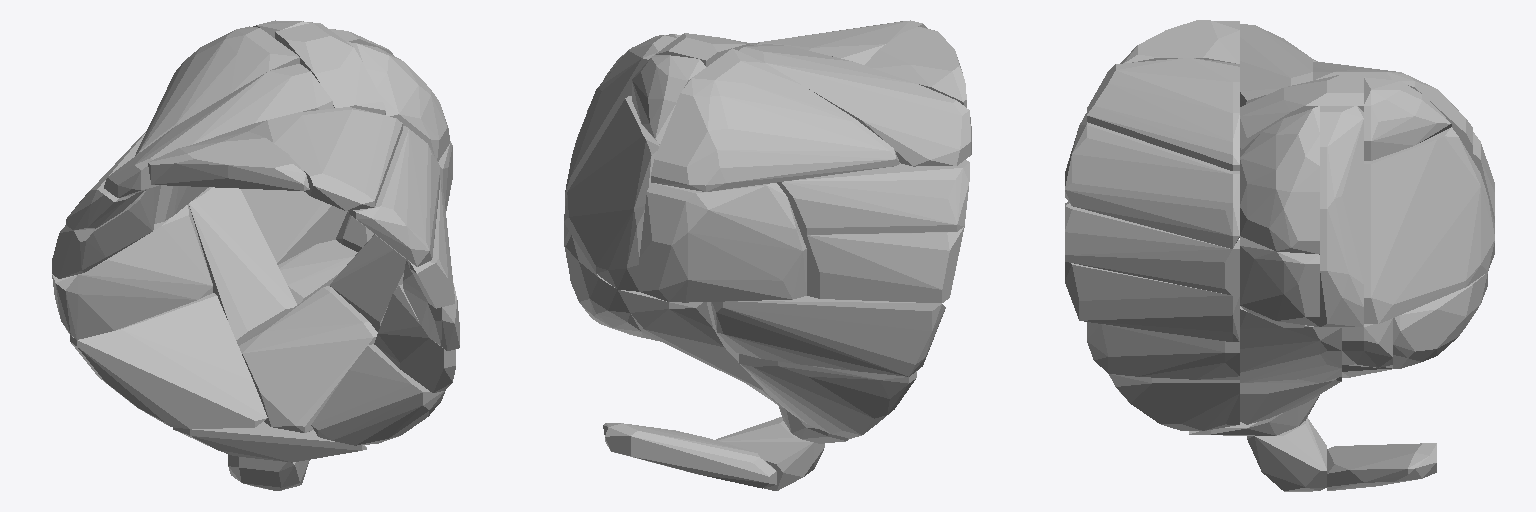
URDF robot description (root):
<robot name="root"><link name="link_GreenCup_800_tex_0000"><inertial><origin rpy="0 0 0" xyz="0 0 0" /><mass value="1.41E-03" /><inertia ixx="7.35E-07" ixy="-1.10E-07" ixz="1.91E-07" iyy="6.61E-07" iyz="2.82E-07" izz="2.43E-07" /></inertial><visual><origin rpy="0 0 0" xyz="0 0 0" /><geometry><mesh filename="package://GreenCup_800_tex/GreenCup_800_tex_0000.obj" /></geometry><material name=""><color rgba="0.75 0.75 0.75 1" /></material></visual><collision><origin rpy="0 0 0" xyz="0 0 0" /><geometry><mesh filename="package://GreenCup_800_tex/GreenCup_800_tex_0000.obj" /></geometry></collision></link><link name="link_GreenCup_800_tex_0001"><inertial><origin rpy="0 0 0" xyz="0 0 0" /><mass value="1.22E-03" /><inertia ixx="6.00E-07" ixy="-2.53E-09" ixz="1.74E-08" iyy="5.99E-07" iyz="4.79E-08" izz="1.53E-08" /></inertial><visual><origin rpy="0 0 0" xyz="0 0 0" /><geometry><mesh filename="package://GreenCup_800_tex/GreenCup_800_tex_0001.obj" /></geometry><material name=""><color rgba="0.75 0.75 0.75 1" /></material></visual><collision><origin rpy="0 0 0" xyz="0 0 0" /><geometry><mesh filename="package://GreenCup_800_tex/GreenCup_800_tex_0001.obj" /></geometry></collision></link><joint name="link_GreenCup_800_tex_0001_joint" type="fixed"><origin rpy="0 0 0" xyz="0 0 0" /><parent link="link_GreenCup_800_tex_0000" /><child link="link_GreenCup_800_tex_0001" /></joint><link name="link_GreenCup_800_tex_0002"><inertial><origin rpy="0 0 0" xyz="0 0 0" /><mass value="9.32E-04" /><inertia ixx="2.98E-07" ixy="7.03E-09" ixz="-2.31E-08" iyy="3.01E-07" iyz="-1.66E-08" izz="2.25E-08" /></inertial><visual><origin rpy="0 0 0" xyz="0 0 0" /><geometry><mesh filename="package://GreenCup_800_tex/GreenCup_800_tex_0002.obj" /></geometry><material name=""><color rgba="0.75 0.75 0.75 1" /></material></visual><collision><origin rpy="0 0 0" xyz="0 0 0" /><geometry><mesh filename="package://GreenCup_800_tex/GreenCup_800_tex_0002.obj" /></geometry></collision></link><joint name="link_GreenCup_800_tex_0002_joint" type="fixed"><origin rpy="0 0 0" xyz="0 0 0" /><parent link="link_GreenCup_800_tex_0001" /><child link="link_GreenCup_800_tex_0002" /></joint><link name="link_GreenCup_800_tex_0003"><inertial><origin rpy="0 0 0" xyz="0 0 0" /><mass value="3.76E-03" /><inertia ixx="1.42E-06" ixy="3.09E-07" ixz="-3.81E-07" iyy="9.97E-07" iyz="6.55E-07" izz="9.76E-07" /></inertial><visual><origin rpy="0 0 0" xyz="0 0 0" /><geometry><mesh filename="package://GreenCup_800_tex/GreenCup_800_tex_0003.obj" /></geometry><material name=""><color rgba="0.75 0.75 0.75 1" /></material></visual><collision><origin rpy="0 0 0" xyz="0 0 0" /><geometry><mesh filename="package://GreenCup_800_tex/GreenCup_800_tex_0003.obj" /></geometry></collision></link><joint name="link_GreenCup_800_tex_0003_joint" type="fixed"><origin rpy="0 0 0" xyz="0 0 0" /><parent link="link_GreenCup_800_tex_0002" /><child link="link_GreenCup_800_tex_0003" /></joint><link name="link_GreenCup_800_tex_0004"><inertial><origin rpy="0 0 0" xyz="0 0 0" /><mass value="1.76E-03" /><inertia ixx="4.27E-07" ixy="1.29E-07" ixz="1.47E-07" iyy="3.51E-07" iyz="-1.91E-07" izz="2.84E-07" /></inertial><visual><origin rpy="0 0 0" xyz="0 0 0" /><geometry><mesh filename="package://GreenCup_800_tex/GreenCup_800_tex_0004.obj" /></geometry><material name=""><color rgba="0.75 0.75 0.75 1" /></material></visual><collision><origin rpy="0 0 0" xyz="0 0 0" /><geometry><mesh filename="package://GreenCup_800_tex/GreenCup_800_tex_0004.obj" /></geometry></collision></link><joint name="link_GreenCup_800_tex_0004_joint" type="fixed"><origin rpy="0 0 0" xyz="0 0 0" /><parent link="link_GreenCup_800_tex_0003" /><child link="link_GreenCup_800_tex_0004" /></joint><link name="link_GreenCup_800_tex_0005"><inertial><origin rpy="0 0 0" xyz="0 0 0" /><mass value="1.55E-03" /><inertia ixx="2.65E-07" ixy="1.92E-07" ixz="7.76E-08" iyy="2.34E-07" iyz="-7.91E-08" izz="4.26E-07" /></inertial><visual><origin rpy="0 0 0" xyz="0 0 0" /><geometry><mesh filename="package://GreenCup_800_tex/GreenCup_800_tex_0005.obj" /></geometry><material name=""><color rgba="0.75 0.75 0.75 1" /></material></visual><collision><origin rpy="0 0 0" xyz="0 0 0" /><geometry><mesh filename="package://GreenCup_800_tex/GreenCup_800_tex_0005.obj" /></geometry></collision></link><joint name="link_GreenCup_800_tex_0005_joint" type="fixed"><origin rpy="0 0 0" xyz="0 0 0" /><parent link="link_GreenCup_800_tex_0004" /><child link="link_GreenCup_800_tex_0005" /></joint><link name="link_GreenCup_800_tex_0006"><inertial><origin rpy="0 0 0" xyz="0 0 0" /><mass value="2.01E-03" /><inertia ixx="3.90E-07" ixy="2.89E-07" ixz="-3.93E-08" iyy="3.10E-07" iyz="4.31E-08" izz="6.77E-07" /></inertial><visual><origin rpy="0 0 0" xyz="0 0 0" /><geometry><mesh filename="package://GreenCup_800_tex/GreenCup_800_tex_0006.obj" /></geometry><material name=""><color rgba="0.75 0.75 0.75 1" /></material></visual><collision><origin rpy="0 0 0" xyz="0 0 0" /><geometry><mesh filename="package://GreenCup_800_tex/GreenCup_800_tex_0006.obj" /></geometry></collision></link><joint name="link_GreenCup_800_tex_0006_joint" type="fixed"><origin rpy="0 0 0" xyz="0 0 0" /><parent link="link_GreenCup_800_tex_0005" /><child link="link_GreenCup_800_tex_0006" /></joint><link name="link_GreenCup_800_tex_0007"><inertial><origin rpy="0 0 0" xyz="0 0 0" /><mass value="2.07E-03" /><inertia ixx="5.54E-07" ixy="2.82E-07" ixz="-1.69E-07" iyy="3.91E-07" iyz="2.09E-07" izz="7.06E-07" /></inertial><visual><origin rpy="0 0 0" xyz="0 0 0" /><geometry><mesh filename="package://GreenCup_800_tex/GreenCup_800_tex_0007.obj" /></geometry><material name=""><color rgba="0.75 0.75 0.75 1" /></material></visual><collision><origin rpy="0 0 0" xyz="0 0 0" /><geometry><mesh filename="package://GreenCup_800_tex/GreenCup_800_tex_0007.obj" /></geometry></collision></link><joint name="link_GreenCup_800_tex_0007_joint" type="fixed"><origin rpy="0 0 0" xyz="0 0 0" /><parent link="link_GreenCup_800_tex_0006" /><child link="link_GreenCup_800_tex_0007" /></joint><link name="link_GreenCup_800_tex_0008"><inertial><origin rpy="0 0 0" xyz="0 0 0" /><mass value="1.33E-03" /><inertia ixx="6.58E-07" ixy="-1.21E-07" ixz="2.86E-07" iyy="7.05E-07" iyz="2.39E-07" izz="2.83E-07" /></inertial><visual><origin rpy="0 0 0" xyz="0 0 0" /><geometry><mesh filename="package://GreenCup_800_tex/GreenCup_800_tex_0008.obj" /></geometry><material name=""><color rgba="0.75 0.75 0.75 1" /></material></visual><collision><origin rpy="0 0 0" xyz="0 0 0" /><geometry><mesh filename="package://GreenCup_800_tex/GreenCup_800_tex_0008.obj" /></geometry></collision></link><joint name="link_GreenCup_800_tex_0008_joint" type="fixed"><origin rpy="0 0 0" xyz="0 0 0" /><parent link="link_GreenCup_800_tex_0007" /><child link="link_GreenCup_800_tex_0008" /></joint><link name="link_GreenCup_800_tex_0009"><inertial><origin rpy="0 0 0" xyz="0 0 0" /><mass value="2.92E-03" /><inertia ixx="1.42E-06" ixy="4.40E-09" ixz="-3.74E-08" iyy="1.12E-06" iyz="5.70E-07" izz="4.07E-07" /></inertial><visual><origin rpy="0 0 0" xyz="0 0 0" /><geometry><mesh filename="package://GreenCup_800_tex/GreenCup_800_tex_0009.obj" /></geometry><material name=""><color rgba="0.75 0.75 0.75 1" /></material></visual><collision><origin rpy="0 0 0" xyz="0 0 0" /><geometry><mesh filename="package://GreenCup_800_tex/GreenCup_800_tex_0009.obj" /></geometry></collision></link><joint name="link_GreenCup_800_tex_0009_joint" type="fixed"><origin rpy="0 0 0" xyz="0 0 0" /><parent link="link_GreenCup_800_tex_0008" /><child link="link_GreenCup_800_tex_0009" /></joint><link name="link_GreenCup_800_tex_0010"><inertial><origin rpy="0 0 0" xyz="0 0 0" /><mass value="3.78E-03" /><inertia ixx="6.67E-07" ixy="2.33E-07" ixz="-3.16E-07" iyy="7.78E-07" iyz="2.63E-07" izz="5.47E-07" /></inertial><visual><origin rpy="0 0 0" xyz="0 0 0" /><geometry><mesh filename="package://GreenCup_800_tex/GreenCup_800_tex_0010.obj" /></geometry><material name=""><color rgba="0.75 0.75 0.75 1" /></material></visual><collision><origin rpy="0 0 0" xyz="0 0 0" /><geometry><mesh filename="package://GreenCup_800_tex/GreenCup_800_tex_0010.obj" /></geometry></collision></link><joint name="link_GreenCup_800_tex_0010_joint" type="fixed"><origin rpy="0 0 0" xyz="0 0 0" /><parent link="link_GreenCup_800_tex_0009" /><child link="link_GreenCup_800_tex_0010" /></joint><link name="link_GreenCup_800_tex_0011"><inertial><origin rpy="0 0 0" xyz="0 0 0" /><mass value="3.73E-03" /><inertia ixx="5.76E-07" ixy="4.32E-07" ixz="-3.53E-08" iyy="5.60E-07" iyz="3.89E-08" izz="1.09E-06" /></inertial><visual><origin rpy="0 0 0" xyz="0 0 0" /><geometry><mesh filename="package://GreenCup_800_tex/GreenCup_800_tex_0011.obj" /></geometry><material name=""><color rgba="0.75 0.75 0.75 1" /></material></visual><collision><origin rpy="0 0 0" xyz="0 0 0" /><geometry><mesh filename="package://GreenCup_800_tex/GreenCup_800_tex_0011.obj" /></geometry></collision></link><joint name="link_GreenCup_800_tex_0011_joint" type="fixed"><origin rpy="0 0 0" xyz="0 0 0" /><parent link="link_GreenCup_800_tex_0010" /><child link="link_GreenCup_800_tex_0011" /></joint><link name="link_GreenCup_800_tex_0012"><inertial><origin rpy="0 0 0" xyz="0 0 0" /><mass value="2.93E-03" /><inertia ixx="4.04E-07" ixy="-1.55E-08" ixz="1.45E-07" iyy="4.74E-07" iyz="3.66E-08" izz="1.29E-07" /></inertial><visual><origin rpy="0 0 0" xyz="0 0 0" /><geometry><mesh filename="package://GreenCup_800_tex/GreenCup_800_tex_0012.obj" /></geometry><material name=""><color rgba="0.75 0.75 0.75 1" /></material></visual><collision><origin rpy="0 0 0" xyz="0 0 0" /><geometry><mesh filename="package://GreenCup_800_tex/GreenCup_800_tex_0012.obj" /></geometry></collision></link><joint name="link_GreenCup_800_tex_0012_joint" type="fixed"><origin rpy="0 0 0" xyz="0 0 0" /><parent link="link_GreenCup_800_tex_0011" /><child link="link_GreenCup_800_tex_0012" /></joint><link name="link_GreenCup_800_tex_0013"><inertial><origin rpy="0 0 0" xyz="0 0 0" /><mass value="2.75E-03" /><inertia ixx="6.71E-08" ixy="-6.45E-08" ixz="7.60E-08" iyy="7.00E-07" iyz="8.76E-09" izz="6.93E-07" /></inertial><visual><origin rpy="0 0 0" xyz="0 0 0" /><geometry><mesh filename="package://GreenCup_800_tex/GreenCup_800_tex_0013.obj" /></geometry><material name=""><color rgba="0.75 0.75 0.75 1" /></material></visual><collision><origin rpy="0 0 0" xyz="0 0 0" /><geometry><mesh filename="package://GreenCup_800_tex/GreenCup_800_tex_0013.obj" /></geometry></collision></link><joint name="link_GreenCup_800_tex_0013_joint" type="fixed"><origin rpy="0 0 0" xyz="0 0 0" /><parent link="link_GreenCup_800_tex_0012" /><child link="link_GreenCup_800_tex_0013" /></joint><link name="link_GreenCup_800_tex_0014"><inertial><origin rpy="0 0 0" xyz="0 0 0" /><mass value="3.03E-03" /><inertia ixx="7.12E-07" ixy="-1.16E-07" ixz="2.93E-08" iyy="1.17E-07" iyz="1.16E-07" izz="6.67E-07" /></inertial><visual><origin rpy="0 0 0" xyz="0 0 0" /><geometry><mesh filename="package://GreenCup_800_tex/GreenCup_800_tex_0014.obj" /></geometry><material name=""><color rgba="0.75 0.75 0.75 1" /></material></visual><collision><origin rpy="0 0 0" xyz="0 0 0" /><geometry><mesh filename="package://GreenCup_800_tex/GreenCup_800_tex_0014.obj" /></geometry></collision></link><joint name="link_GreenCup_800_tex_0014_joint" type="fixed"><origin rpy="0 0 0" xyz="0 0 0" /><parent link="link_GreenCup_800_tex_0013" /><child link="link_GreenCup_800_tex_0014" /></joint><link name="link_GreenCup_800_tex_0015"><inertial><origin rpy="0 0 0" xyz="0 0 0" /><mass value="3.81E-03" /><inertia ixx="1.63E-06" ixy="6.68E-08" ixz="4.14E-08" iyy="4.25E-07" iyz="-6.35E-07" izz="1.31E-06" /></inertial><visual><origin rpy="0 0 0" xyz="0 0 0" /><geometry><mesh filename="package://GreenCup_800_tex/GreenCup_800_tex_0015.obj" /></geometry><material name=""><color rgba="0.75 0.75 0.75 1" /></material></visual><collision><origin rpy="0 0 0" xyz="0 0 0" /><geometry><mesh filename="package://GreenCup_800_tex/GreenCup_800_tex_0015.obj" /></geometry></collision></link><joint name="link_GreenCup_800_tex_0015_joint" type="fixed"><origin rpy="0 0 0" xyz="0 0 0" /><parent link="link_GreenCup_800_tex_0014" /><child link="link_GreenCup_800_tex_0015" /></joint><link name="link_GreenCup_800_tex_0016"><inertial><origin rpy="0 0 0" xyz="0 0 0" /><mass value="3.67E-03" /><inertia ixx="1.38E-06" ixy="-1.58E-08" ixz="4.76E-07" iyy="1.71E-06" iyz="3.15E-08" izz="3.62E-07" /></inertial><visual><origin rpy="0 0 0" xyz="0 0 0" /><geometry><mesh filename="package://GreenCup_800_tex/GreenCup_800_tex_0016.obj" /></geometry><material name=""><color rgba="0.75 0.75 0.75 1" /></material></visual><collision><origin rpy="0 0 0" xyz="0 0 0" /><geometry><mesh filename="package://GreenCup_800_tex/GreenCup_800_tex_0016.obj" /></geometry></collision></link><joint name="link_GreenCup_800_tex_0016_joint" type="fixed"><origin rpy="0 0 0" xyz="0 0 0" /><parent link="link_GreenCup_800_tex_0015" /><child link="link_GreenCup_800_tex_0016" /></joint><link name="link_GreenCup_800_tex_0017"><inertial><origin rpy="0 0 0" xyz="0 0 0" /><mass value="4.93E-03" /><inertia ixx="2.44E-06" ixy="3.80E-08" ixz="1.17E-07" iyy="1.91E-06" iyz="-9.77E-07" izz="7.38E-07" /></inertial><visual><origin rpy="0 0 0" xyz="0 0 0" /><geometry><mesh filename="package://GreenCup_800_tex/GreenCup_800_tex_0017.obj" /></geometry><material name=""><color rgba="0.75 0.75 0.75 1" /></material></visual><collision><origin rpy="0 0 0" xyz="0 0 0" /><geometry><mesh filename="package://GreenCup_800_tex/GreenCup_800_tex_0017.obj" /></geometry></collision></link><joint name="link_GreenCup_800_tex_0017_joint" type="fixed"><origin rpy="0 0 0" xyz="0 0 0" /><parent link="link_GreenCup_800_tex_0016" /><child link="link_GreenCup_800_tex_0017" /></joint><link name="link_GreenCup_800_tex_0018"><inertial><origin rpy="0 0 0" xyz="0 0 0" /><mass value="1.73E-03" /><inertia ixx="8.21E-07" ixy="-3.31E-08" ixz="-3.05E-07" iyy="9.14E-07" iyz="-9.26E-08" izz="1.56E-07" /></inertial><visual><origin rpy="0 0 0" xyz="0 0 0" /><geometry><mesh filename="package://GreenCup_800_tex/GreenCup_800_tex_0018.obj" /></geometry><material name=""><color rgba="0.75 0.75 0.75 1" /></material></visual><collision><origin rpy="0 0 0" xyz="0 0 0" /><geometry><mesh filename="package://GreenCup_800_tex/GreenCup_800_tex_0018.obj" /></geometry></collision></link><joint name="link_GreenCup_800_tex_0018_joint" type="fixed"><origin rpy="0 0 0" xyz="0 0 0" /><parent link="link_GreenCup_800_tex_0017" /><child link="link_GreenCup_800_tex_0018" /></joint><link name="link_GreenCup_800_tex_0019"><inertial><origin rpy="0 0 0" xyz="0 0 0" /><mass value="4.99E-03" /><inertia ixx="1.75E-06" ixy="-7.88E-07" ixz="-5.39E-07" iyy="1.29E-06" iyz="-7.28E-07" izz="1.87E-06" /></inertial><visual><origin rpy="0 0 0" xyz="0 0 0" /><geometry><mesh filename="package://GreenCup_800_tex/GreenCup_800_tex_0019.obj" /></geometry><material name=""><color rgba="0.75 0.75 0.75 1" /></material></visual><collision><origin rpy="0 0 0" xyz="0 0 0" /><geometry><mesh filename="package://GreenCup_800_tex/GreenCup_800_tex_0019.obj" /></geometry></collision></link><joint name="link_GreenCup_800_tex_0019_joint" type="fixed"><origin rpy="0 0 0" xyz="0 0 0" /><parent link="link_GreenCup_800_tex_0018" /><child link="link_GreenCup_800_tex_0019" /></joint><link name="link_GreenCup_800_tex_0020"><inertial><origin rpy="0 0 0" xyz="0 0 0" /><mass value="9.53E-04" /><inertia ixx="5.72E-07" ixy="-9.18E-08" ixz="-1.66E-07" iyy="4.99E-07" iyz="-2.41E-07" izz="2.09E-07" /></inertial><visual><origin rpy="0 0 0" xyz="0 0 0" /><geometry><mesh filename="package://GreenCup_800_tex/GreenCup_800_tex_0020.obj" /></geometry><material name=""><color rgba="0.75 0.75 0.75 1" /></material></visual><collision><origin rpy="0 0 0" xyz="0 0 0" /><geometry><mesh filename="package://GreenCup_800_tex/GreenCup_800_tex_0020.obj" /></geometry></collision></link><joint name="link_GreenCup_800_tex_0020_joint" type="fixed"><origin rpy="0 0 0" xyz="0 0 0" /><parent link="link_GreenCup_800_tex_0019" /><child link="link_GreenCup_800_tex_0020" /></joint><link name="link_GreenCup_800_tex_0021"><inertial><origin rpy="0 0 0" xyz="0 0 0" /><mass value="2.52E-03" /><inertia ixx="6.63E-07" ixy="-4.63E-07" ixz="2.61E-08" iyy="3.91E-07" iyz="3.50E-08" izz="1.02E-06" /></inertial><visual><origin rpy="0 0 0" xyz="0 0 0" /><geometry><mesh filename="package://GreenCup_800_tex/GreenCup_800_tex_0021.obj" /></geometry><material name=""><color rgba="0.75 0.75 0.75 1" /></material></visual><collision><origin rpy="0 0 0" xyz="0 0 0" /><geometry><mesh filename="package://GreenCup_800_tex/GreenCup_800_tex_0021.obj" /></geometry></collision></link><joint name="link_GreenCup_800_tex_0021_joint" type="fixed"><origin rpy="0 0 0" xyz="0 0 0" /><parent link="link_GreenCup_800_tex_0020" /><child link="link_GreenCup_800_tex_0021" /></joint><link name="link_GreenCup_800_tex_0022"><inertial><origin rpy="0 0 0" xyz="0 0 0" /><mass value="1.98E-03" /><inertia ixx="2.77E-07" ixy="2.64E-07" ixz="2.05E-07" iyy="5.99E-07" iyz="-1.21E-07" izz="6.81E-07" /></inertial><visual><origin rpy="0 0 0" xyz="0 0 0" /><geometry><mesh filename="package://GreenCup_800_tex/GreenCup_800_tex_0022.obj" /></geometry><material name=""><color rgba="0.75 0.75 0.75 1" /></material></visual><collision><origin rpy="0 0 0" xyz="0 0 0" /><geometry><mesh filename="package://GreenCup_800_tex/GreenCup_800_tex_0022.obj" /></geometry></collision></link><joint name="link_GreenCup_800_tex_0022_joint" type="fixed"><origin rpy="0 0 0" xyz="0 0 0" /><parent link="link_GreenCup_800_tex_0021" /><child link="link_GreenCup_800_tex_0022" /></joint><link name="link_GreenCup_800_tex_0023"><inertial><origin rpy="0 0 0" xyz="0 0 0" /><mass value="2.43E-03" /><inertia ixx="5.64E-07" ixy="2.02E-07" ixz="4.28E-07" iyy="9.18E-07" iyz="-2.20E-07" izz="6.56E-07" /></inertial><visual><origin rpy="0 0 0" xyz="0 0 0" /><geometry><mesh filename="package://GreenCup_800_tex/GreenCup_800_tex_0023.obj" /></geometry><material name=""><color rgba="0.75 0.75 0.75 1" /></material></visual><collision><origin rpy="0 0 0" xyz="0 0 0" /><geometry><mesh filename="package://GreenCup_800_tex/GreenCup_800_tex_0023.obj" /></geometry></collision></link><joint name="link_GreenCup_800_tex_0023_joint" type="fixed"><origin rpy="0 0 0" xyz="0 0 0" /><parent link="link_GreenCup_800_tex_0022" /><child link="link_GreenCup_800_tex_0023" /></joint><link name="link_GreenCup_800_tex_0024"><inertial><origin rpy="0 0 0" xyz="0 0 0" /><mass value="2.46E-03" /><inertia ixx="6.33E-07" ixy="-2.75E-07" ixz="-5.43E-07" iyy="1.27E-06" iyz="-2.17E-07" izz="8.58E-07" /></inertial><visual><origin rpy="0 0 0" xyz="0 0 0" /><geometry><mesh filename="package://GreenCup_800_tex/GreenCup_800_tex_0024.obj" /></geometry><material name=""><color rgba="0.75 0.75 0.75 1" /></material></visual><collision><origin rpy="0 0 0" xyz="0 0 0" /><geometry><mesh filename="package://GreenCup_800_tex/GreenCup_800_tex_0024.obj" /></geometry></collision></link><joint name="link_GreenCup_800_tex_0024_joint" type="fixed"><origin rpy="0 0 0" xyz="0 0 0" /><parent link="link_GreenCup_800_tex_0023" /><child link="link_GreenCup_800_tex_0024" /></joint><link name="link_GreenCup_800_tex_0025"><inertial><origin rpy="0 0 0" xyz="0 0 0" /><mass value="8.74E-04" /><inertia ixx="1.05E-07" ixy="-9.12E-08" ixz="5.16E-08" iyy="1.45E-07" iyz="4.41E-08" izz="1.95E-07" /></inertial><visual><origin rpy="0 0 0" xyz="0 0 0" /><geometry><mesh filename="package://GreenCup_800_tex/GreenCup_800_tex_0025.obj" /></geometry><material name=""><color rgba="0.75 0.75 0.75 1" /></material></visual><collision><origin rpy="0 0 0" xyz="0 0 0" /><geometry><mesh filename="package://GreenCup_800_tex/GreenCup_800_tex_0025.obj" /></geometry></collision></link><joint name="link_GreenCup_800_tex_0025_joint" type="fixed"><origin rpy="0 0 0" xyz="0 0 0" /><parent link="link_GreenCup_800_tex_0024" /><child link="link_GreenCup_800_tex_0025" /></joint><link name="link_GreenCup_800_tex_0026"><inertial><origin rpy="0 0 0" xyz="0 0 0" /><mass value="7.42E-04" /><inertia ixx="6.95E-08" ixy="-1.28E-07" ixz="1.20E-09" iyy="2.54E-07" iyz="1.24E-09" izz="3.19E-07" /></inertial><visual><origin rpy="0 0 0" xyz="0 0 0" /><geometry><mesh filename="package://GreenCup_800_tex/GreenCup_800_tex_0026.obj" /></geometry><material name=""><color rgba="0.75 0.75 0.75 1" /></material></visual><collision><origin rpy="0 0 0" xyz="0 0 0" /><geometry><mesh filename="package://GreenCup_800_tex/GreenCup_800_tex_0026.obj" /></geometry></collision></link><joint name="link_GreenCup_800_tex_0026_joint" type="fixed"><origin rpy="0 0 0" xyz="0 0 0" /><parent link="link_GreenCup_800_tex_0025" /><child link="link_GreenCup_800_tex_0026" /></joint><link name="link_GreenCup_800_tex_0027"><inertial><origin rpy="0 0 0" xyz="0 0 0" /><mass value="1.43E-03" /><inertia ixx="9.35E-08" ixy="-4.32E-09" ixz="-2.02E-07" iyy="6.15E-07" iyz="3.47E-10" izz="5.37E-07" /></inertial><visual><origin rpy="0 0 0" xyz="0 0 0" /><geometry><mesh filename="package://GreenCup_800_tex/GreenCup_800_tex_0027.obj" /></geometry><material name=""><color rgba="0.75 0.75 0.75 1" /></material></visual><collision><origin rpy="0 0 0" xyz="0 0 0" /><geometry><mesh filename="package://GreenCup_800_tex/GreenCup_800_tex_0027.obj" /></geometry></collision></link><joint name="link_GreenCup_800_tex_0027_joint" type="fixed"><origin rpy="0 0 0" xyz="0 0 0" /><parent link="link_GreenCup_800_tex_0026" /><child link="link_GreenCup_800_tex_0027" /></joint><link name="link_GreenCup_800_tex_0028"><inertial><origin rpy="0 0 0" xyz="0 0 0" /><mass value="2.33E-03" /><inertia ixx="6.80E-07" ixy="-2.05E-08" ixz="-6.11E-07" iyy="1.28E-06" iyz="-2.20E-08" izz="6.23E-07" /></inertial><visual><origin rpy="0 0 0" xyz="0 0 0" /><geometry><mesh filename="package://GreenCup_800_tex/GreenCup_800_tex_0028.obj" /></geometry><material name=""><color rgba="0.75 0.75 0.75 1" /></material></visual><collision><origin rpy="0 0 0" xyz="0 0 0" /><geometry><mesh filename="package://GreenCup_800_tex/GreenCup_800_tex_0028.obj" /></geometry></collision></link><joint name="link_GreenCup_800_tex_0028_joint" type="fixed"><origin rpy="0 0 0" xyz="0 0 0" /><parent link="link_GreenCup_800_tex_0027" /><child link="link_GreenCup_800_tex_0028" /></joint></robot>

--- Render facts (derived) ---
3 views of the same robot in one strip: view 1: azimuth 30°, elevation 25°; view 2: azimuth 150°, elevation 25°; view 3: azimuth 270°, elevation 25° (orthographic).
Robot: root — 29 links, 28 joints (28 fixed); root link link_GreenCup_800_tex_0000; default pose: every joint at zero.
Visible links, largest first — view 1: link_GreenCup_800_tex_0010, link_GreenCup_800_tex_0012, link_GreenCup_800_tex_0011, link_GreenCup_800_tex_0009, link_GreenCup_800_tex_0014, link_GreenCup_800_tex_0016, link_GreenCup_800_tex_0004, link_GreenCup_800_tex_0017, link_GreenCup_800_tex_0003, link_GreenCup_800_tex_0008, link_GreenCup_800_tex_0018, link_GreenCup_800_tex_0021 (+13 smaller); view 2: link_GreenCup_800_tex_0017, link_GreenCup_800_tex_0015, link_GreenCup_800_tex_0011, link_GreenCup_800_tex_0016, link_GreenCup_800_tex_0023, link_GreenCup_800_tex_0019, link_GreenCup_800_tex_0022, link_GreenCup_800_tex_0010, link_GreenCup_800_tex_0000, link_GreenCup_800_tex_0014, link_GreenCup_800_tex_0008, link_GreenCup_800_tex_0024 (+6 smaller); view 3: link_GreenCup_800_tex_0019, link_GreenCup_800_tex_0003, link_GreenCup_800_tex_0009, link_GreenCup_800_tex_0028, link_GreenCup_800_tex_0024, link_GreenCup_800_tex_0007, link_GreenCup_800_tex_0006, link_GreenCup_800_tex_0005, link_GreenCup_800_tex_0013, link_GreenCup_800_tex_0027, link_GreenCup_800_tex_0004, link_GreenCup_800_tex_0020 (+11 smaller).
Link boxes in pixels (x1,y1,x2,y2): link_GreenCup_800_tex_0010: (70, 293, 267, 428); link_GreenCup_800_tex_0012: (239, 286, 377, 432); link_GreenCup_800_tex_0011: (52, 204, 212, 339); link_GreenCup_800_tex_0009: (249, 107, 402, 210); link_GreenCup_800_tex_0014: (189, 187, 296, 345); link_GreenCup_800_tex_0016: (104, 64, 333, 197); link_GreenCup_800_tex_0004: (311, 344, 445, 445); link_GreenCup_800_tex_0017: (135, 26, 299, 155); link_GreenCup_800_tex_0003: (348, 126, 439, 266); link_GreenCup_800_tex_0008: (148, 131, 309, 190); link_GreenCup_800_tex_0018: (275, 23, 385, 114); link_GreenCup_800_tex_0021: (241, 189, 347, 264); link_GreenCup_800_tex_0017: (651, 48, 899, 191); link_GreenCup_800_tex_0015: (639, 183, 806, 302); link_GreenCup_800_tex_0011: (711, 296, 945, 376); link_GreenCup_800_tex_0016: (739, 44, 971, 166); link_GreenCup_800_tex_0023: (777, 160, 969, 234); link_GreenCup_800_tex_0019: (564, 96, 659, 291); link_GreenCup_800_tex_0022: (801, 227, 964, 302); link_GreenCup_800_tex_0010: (739, 354, 916, 438); link_GreenCup_800_tex_0000: (603, 423, 776, 488); link_GreenCup_800_tex_0014: (630, 291, 763, 390); link_GreenCup_800_tex_0008: (865, 26, 966, 107); link_GreenCup_800_tex_0024: (565, 35, 676, 205); link_GreenCup_800_tex_0019: (1364, 127, 1494, 323); link_GreenCup_800_tex_0003: (1065, 113, 1239, 248); link_GreenCup_800_tex_0009: (1087, 58, 1239, 170); link_GreenCup_800_tex_0028: (1240, 106, 1319, 254); link_GreenCup_800_tex_0024: (1320, 106, 1363, 326); link_GreenCup_800_tex_0007: (1065, 202, 1239, 295); link_GreenCup_800_tex_0006: (1065, 262, 1239, 341); link_GreenCup_800_tex_0005: (1087, 322, 1239, 379); link_GreenCup_800_tex_0013: (1240, 306, 1341, 382); link_GreenCup_800_tex_0027: (1240, 236, 1319, 326); link_GreenCup_800_tex_0004: (1109, 374, 1239, 430); link_GreenCup_800_tex_0020: (1364, 77, 1451, 160).
Bounding box of the posed robot: 0.0457 × 0.0457 × 0.0496 m (x, y, z).
Meshes: 29 distinct files referenced, 29 mesh visuals loaded (29 OBJ).